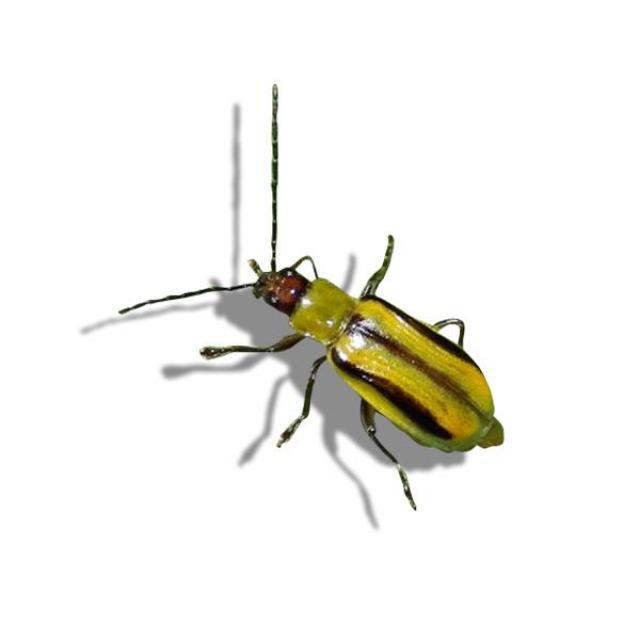trips: (117, 84, 504, 511)
